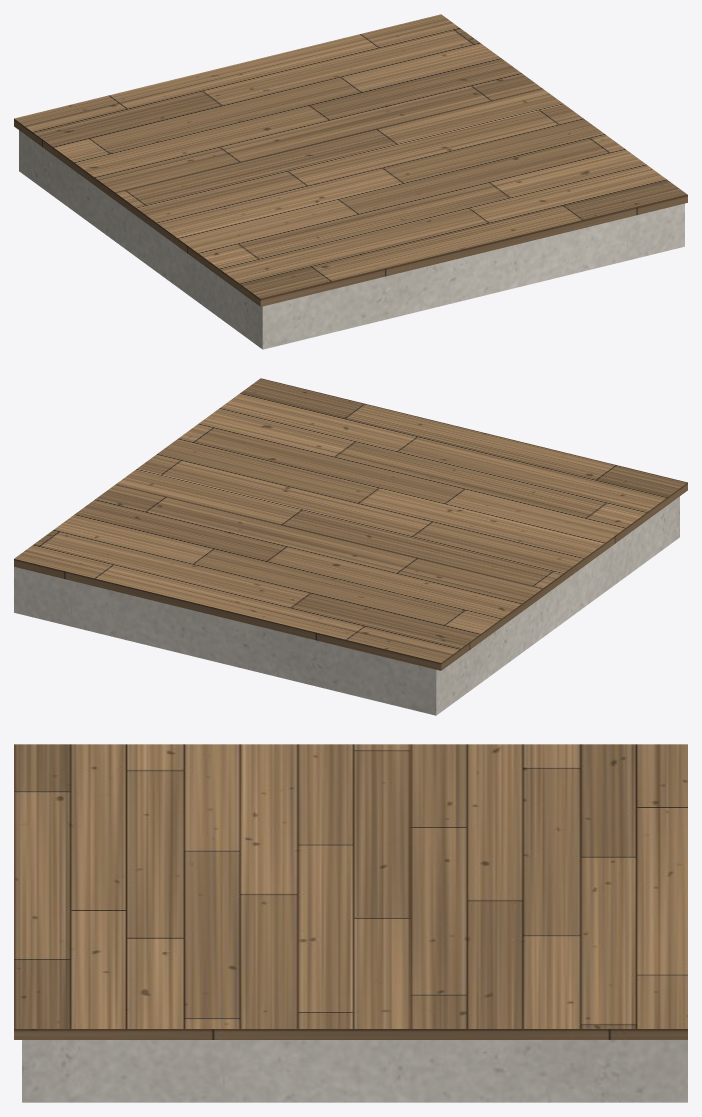
Rendered from floor_wood_c_e0_30_30_0.glb.
3 views of the same model, one above another, from view 1: azimuth 30°, elevation 25°; view 2: azimuth 150°, elevation 25°; view 3: azimuth 270°, elevation 25° (orthographic). The views are drawn at different scales.
Parts seen in each view (by area): view 1: floor_wood_c_e0_30_30_0_attic, floor_wood_c_e0_30_30_0_plaster; view 2: floor_wood_c_e0_30_30_0_attic, floor_wood_c_e0_30_30_0_plaster; view 3: floor_wood_c_e0_30_30_0_attic, floor_wood_c_e0_30_30_0_plaster.
Boxes of the visible parts, box(x1,y1,x2,y2) form: floor_wood_c_e0_30_30_0_attic: box(14, 14, 687, 306); floor_wood_c_e0_30_30_0_plaster: box(19, 130, 684, 349); floor_wood_c_e0_30_30_0_attic: box(14, 378, 687, 670); floor_wood_c_e0_30_30_0_plaster: box(14, 496, 679, 715); floor_wood_c_e0_30_30_0_attic: box(14, 744, 687, 1039); floor_wood_c_e0_30_30_0_plaster: box(22, 1040, 687, 1102).
Bounding box in the file's own units: 1.7 × 0.205 × 1.7.
2 materials, 2 textured.
